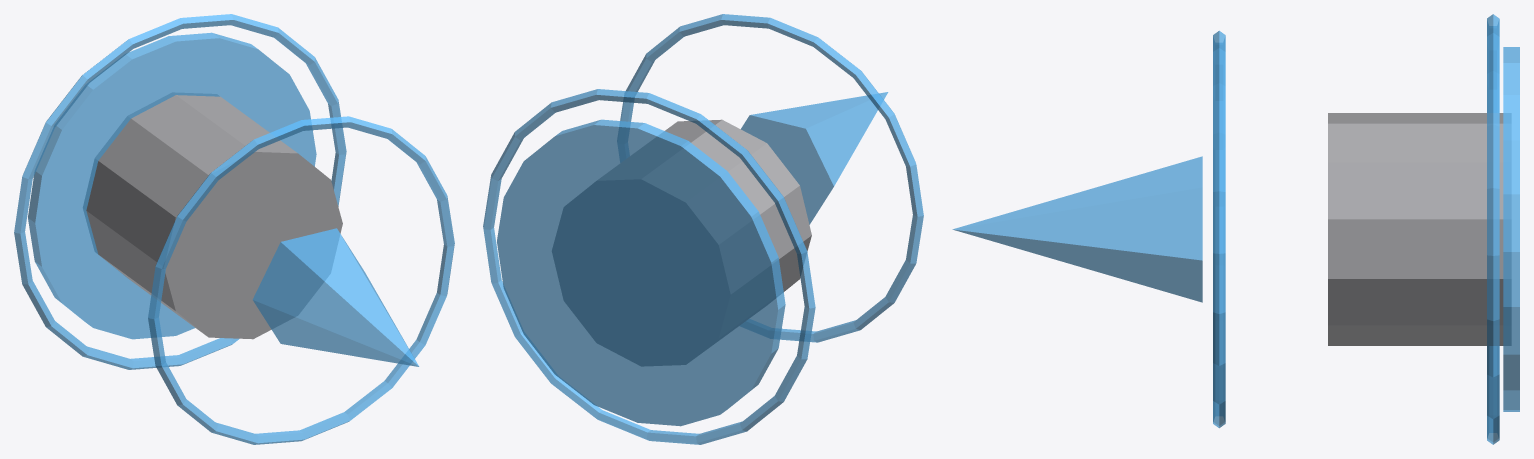
Rendered from 01_save_shrine.glb.
3 views of the same model, side by side, from view 1: azimuth 30°, elevation 25°; view 2: azimuth 150°, elevation 25°; view 3: azimuth 270°, elevation 25° (orthographic). The views are drawn at different scales.
Visible parts, largest first — view 1: pedestal, base_disc, crystal, aura, base_ring; view 2: base_disc, pedestal, base_ring, aura, crystal; view 3: pedestal, crystal, base_disc, base_ring, aura.
Boxes of the visible parts, <box> form: pedestal: <box>83,93,342,339</box>; base_disc: <box>28,32,316,339</box>; crystal: <box>252,228,419,366</box>; aura: <box>148,116,454,444</box>; base_ring: <box>14,14,346,369</box>; base_disc: <box>497,119,785,426</box>; pedestal: <box>552,119,811,365</box>; base_ring: <box>483,89,815,444</box>; aura: <box>617,14,923,342</box>; crystal: <box>741,92,888,224</box>; pedestal: <box>1328,113,1510,345</box>; crystal: <box>952,156,1202,302</box>; base_disc: <box>1503,47,1519,411</box>; base_ring: <box>1487,14,1499,444</box>; aura: <box>1213,30,1225,428</box>.
Size of the model in its own units: 1.3 by 1.3 by 1.7.
